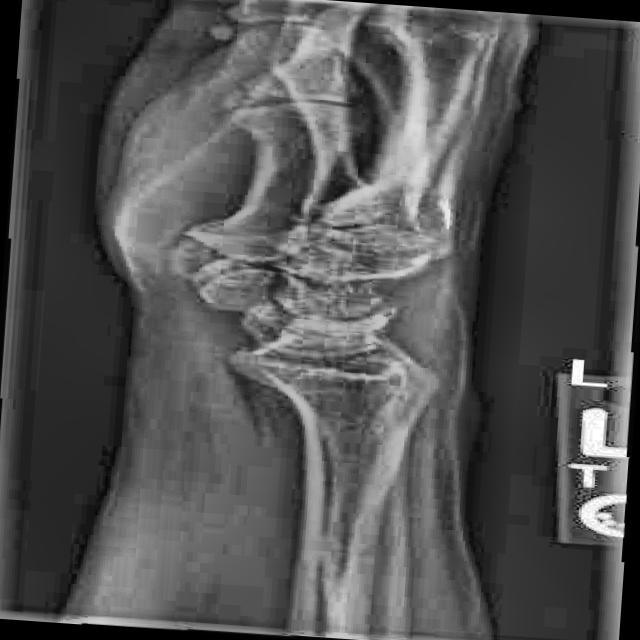fingers positive: (183, 257, 283, 305)
